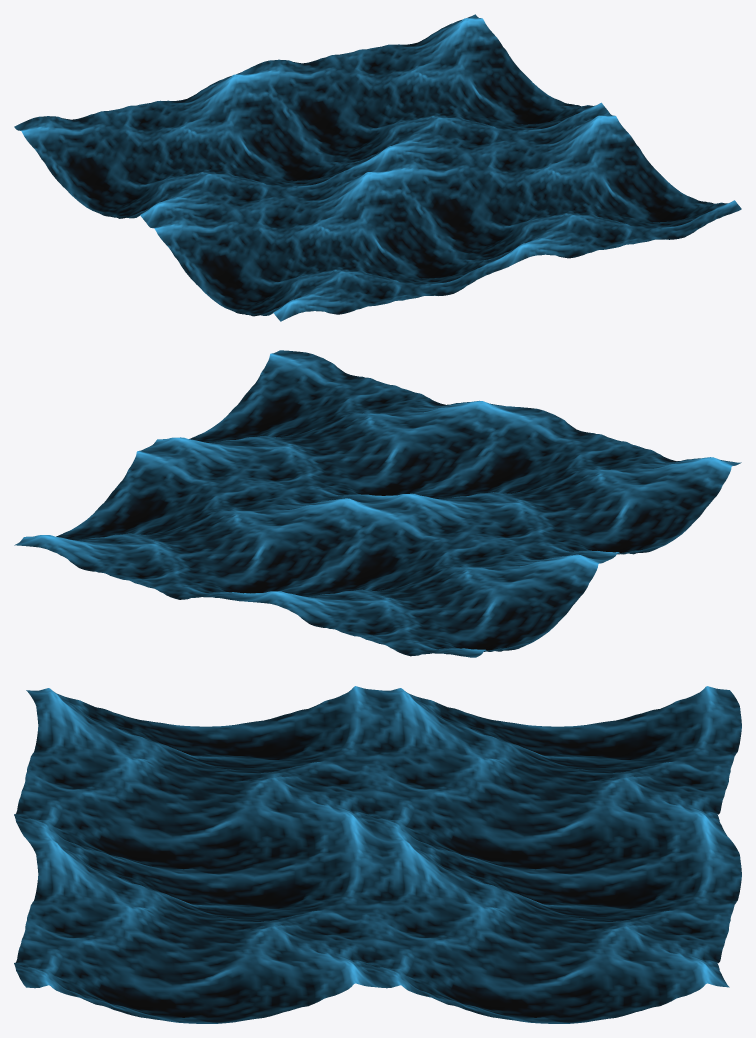
File: uploads_files_3138229_sea.fbx
3 views of the same model, one above another, from view 1: azimuth 30°, elevation 25°; view 2: azimuth 150°, elevation 25°; view 3: azimuth 270°, elevation 25° (orthographic). The views are drawn at different scales.
Visible parts, largest first — view 1: Plane; view 2: Plane; view 3: Plane.
Boxes of the visible parts, x1=… form: Plane: x1=14, y1=14, x2=741, y2=321; Plane: x1=14, y1=350, x2=741, y2=657; Plane: x1=14, y1=686, x2=741, y2=1023.
Size of the model in its own units: 26157 by 2118 by 26885.
